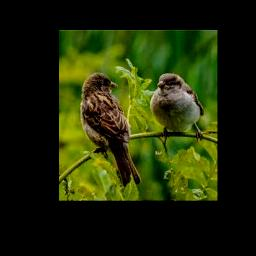Sparrow: (81, 72, 141, 187), (150, 73, 205, 141)
